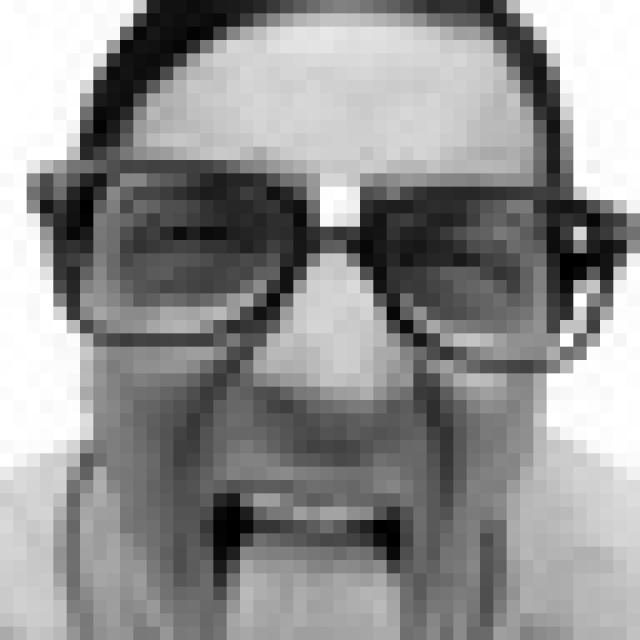disgust: (107, 167, 536, 640)
